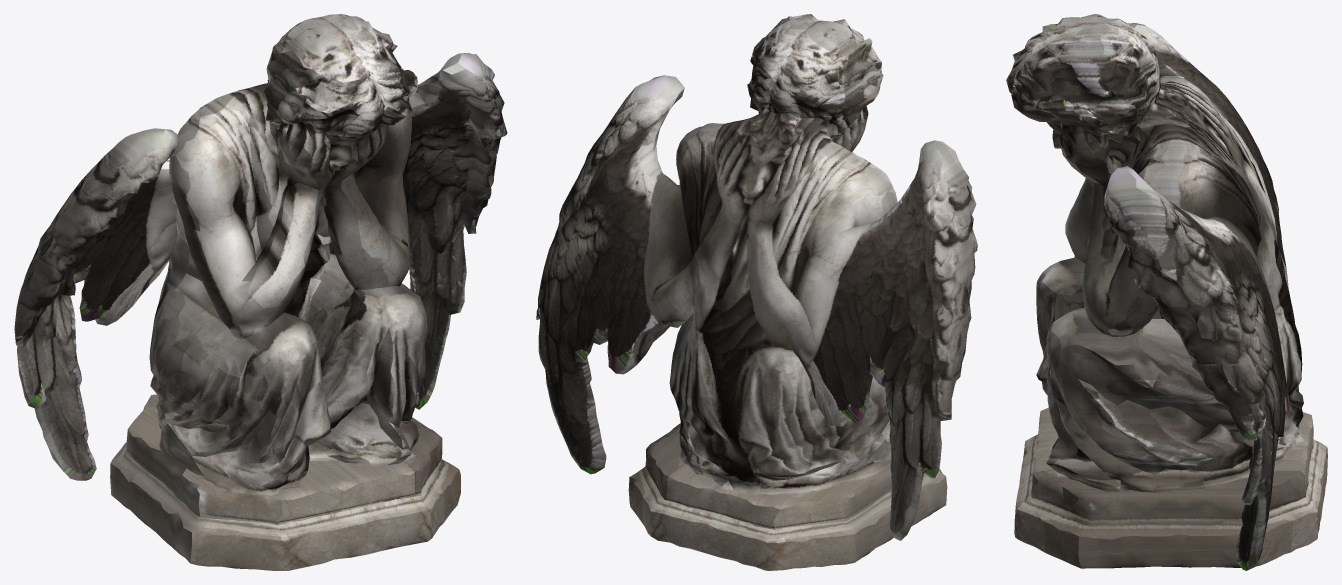
Rendered from angel_statue.glb.
3 views of the same model, side by side, from view 1: azimuth 30°, elevation 25°; view 2: azimuth 150°, elevation 25°; view 3: azimuth 270°, elevation 25° (orthographic). The views are drawn at different scales.
Parts seen in each view (by area): view 1: geometry_0; view 2: geometry_0; view 3: geometry_0.
Part boxes in pixels (box(x1,y1,x2,y2)): geometry_0: box(14, 14, 507, 570); geometry_0: box(536, 14, 977, 570); geometry_0: box(1006, 14, 1327, 570).
Bounding box in the file's own units: 2.47 × 2.6 × 1.54.
1 material, 1 textured.
